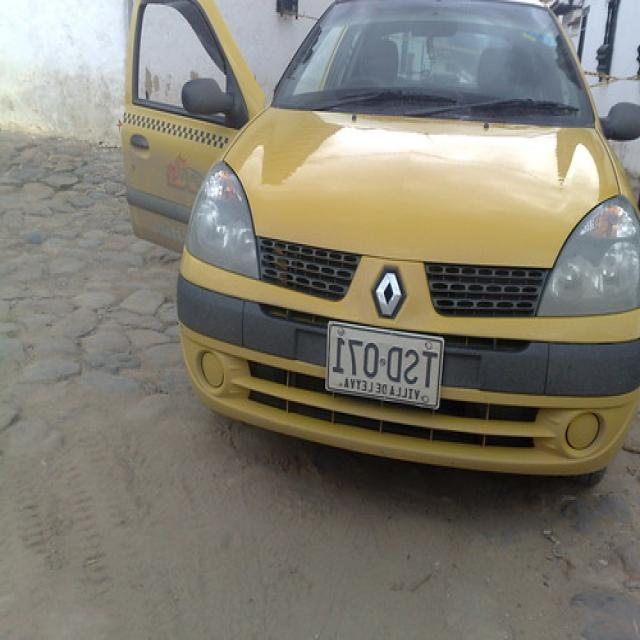placas: (327, 323, 439, 391)
